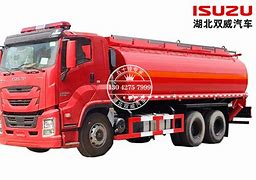oil truck: (1, 21, 245, 157)
